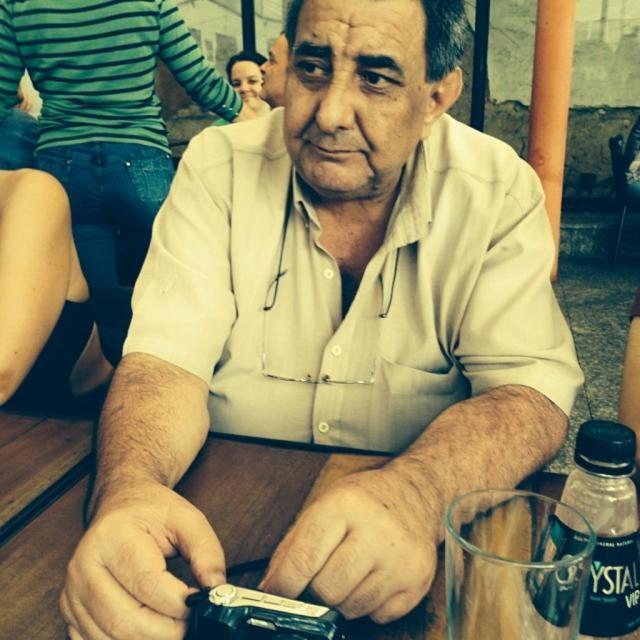closed-mouth: (302, 138, 369, 163)
